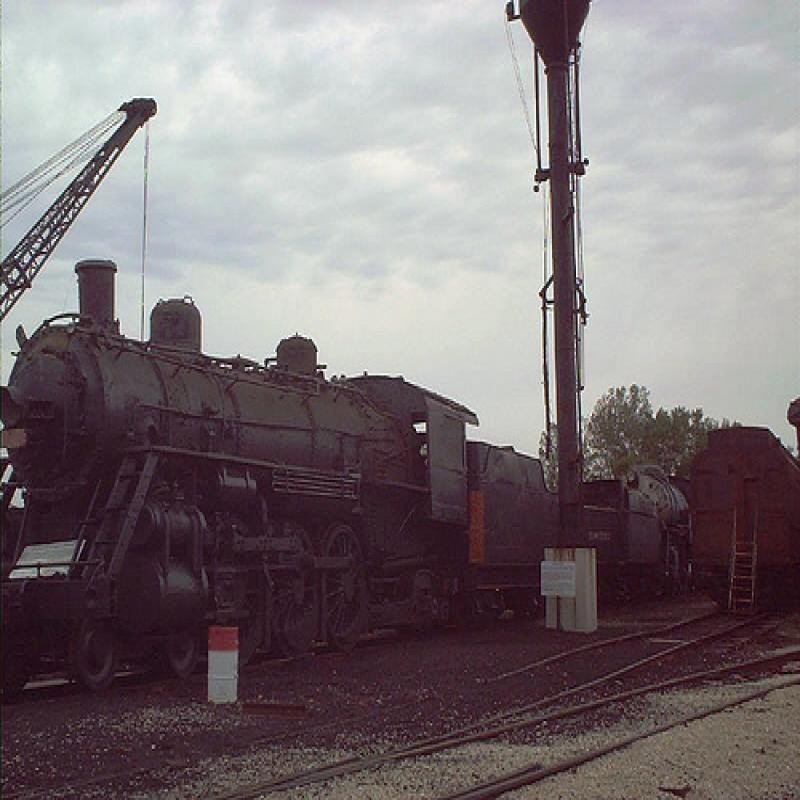train: (1, 261, 691, 699), (688, 430, 800, 613)
